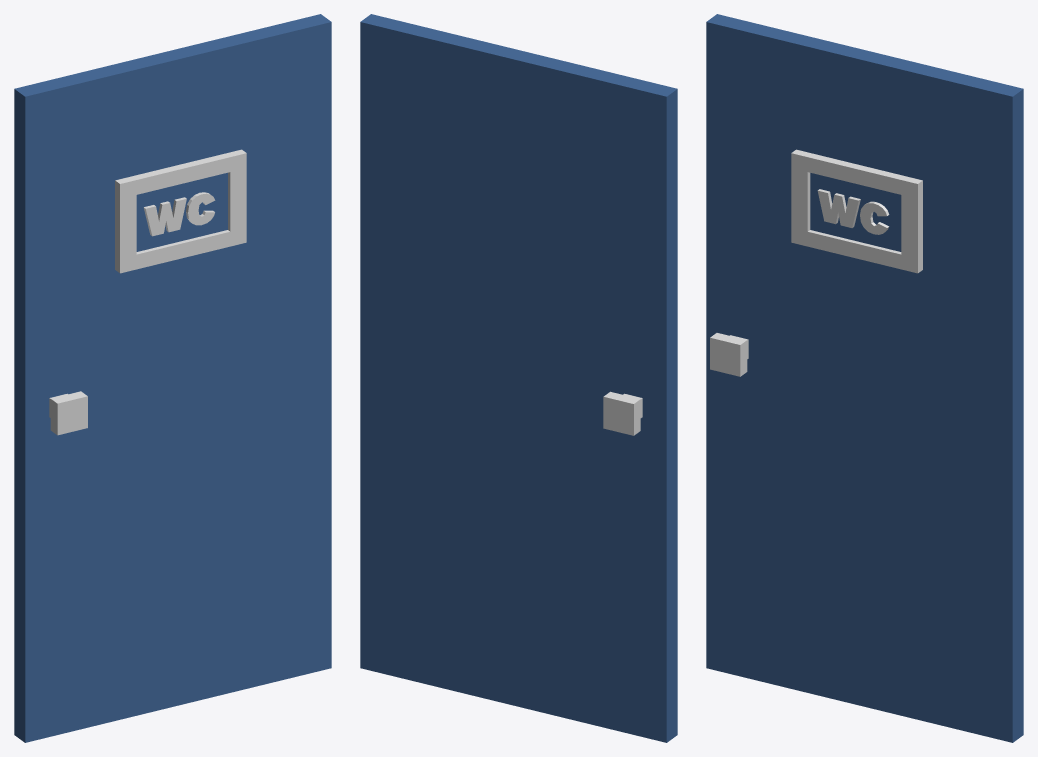
File: SM_IndustrialProps_WC_01_2.fbx
The picture shows the model from 3 angles, left to right: view 1: azimuth 30°, elevation 25°; view 2: azimuth 150°, elevation 25°; view 3: azimuth 330°, elevation 25°; orthographic projection.
Parts seen in each view (by area): view 1: SM_IndustrialProps_WC_01_2; view 2: SM_IndustrialProps_WC_01_2; view 3: SM_IndustrialProps_WC_01_2.
Boxes of the visible parts, left/top/right/bottom form: SM_IndustrialProps_WC_01_2: left=14, top=14, right=331, bottom=742; SM_IndustrialProps_WC_01_2: left=360, top=14, right=677, bottom=742; SM_IndustrialProps_WC_01_2: left=706, top=14, right=1023, bottom=742.
Bounding box in the file's own units: 0.9691 × 1.95 × 0.2198.
